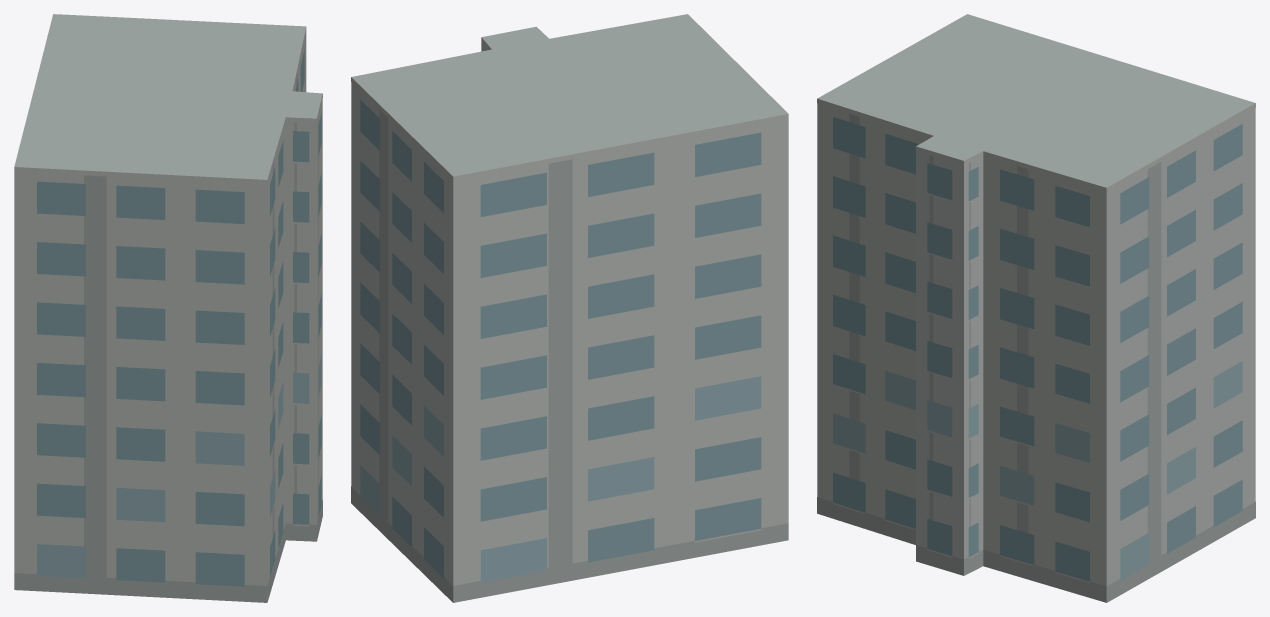
Rendered from survey-upis-32673535.glb.
3 renders of one model, left to right at view 1: azimuth 30°, elevation 25°; view 2: azimuth 150°, elevation 25°; view 3: azimuth 270°, elevation 25°, orthographic. The views are drawn at different scales.
Visible parts, largest first — view 1: survey-upis-32673535.tmp; view 2: survey-upis-32673535.tmp; view 3: survey-upis-32673535.tmp.
Boxes of the visible parts, <box> form: survey-upis-32673535.tmp: <box>14,14,322,602</box>; survey-upis-32673535.tmp: <box>351,14,788,602</box>; survey-upis-32673535.tmp: <box>817,14,1255,602</box>.
Size of the model in its own units: 19.19 by 21.35 by 20.46.
